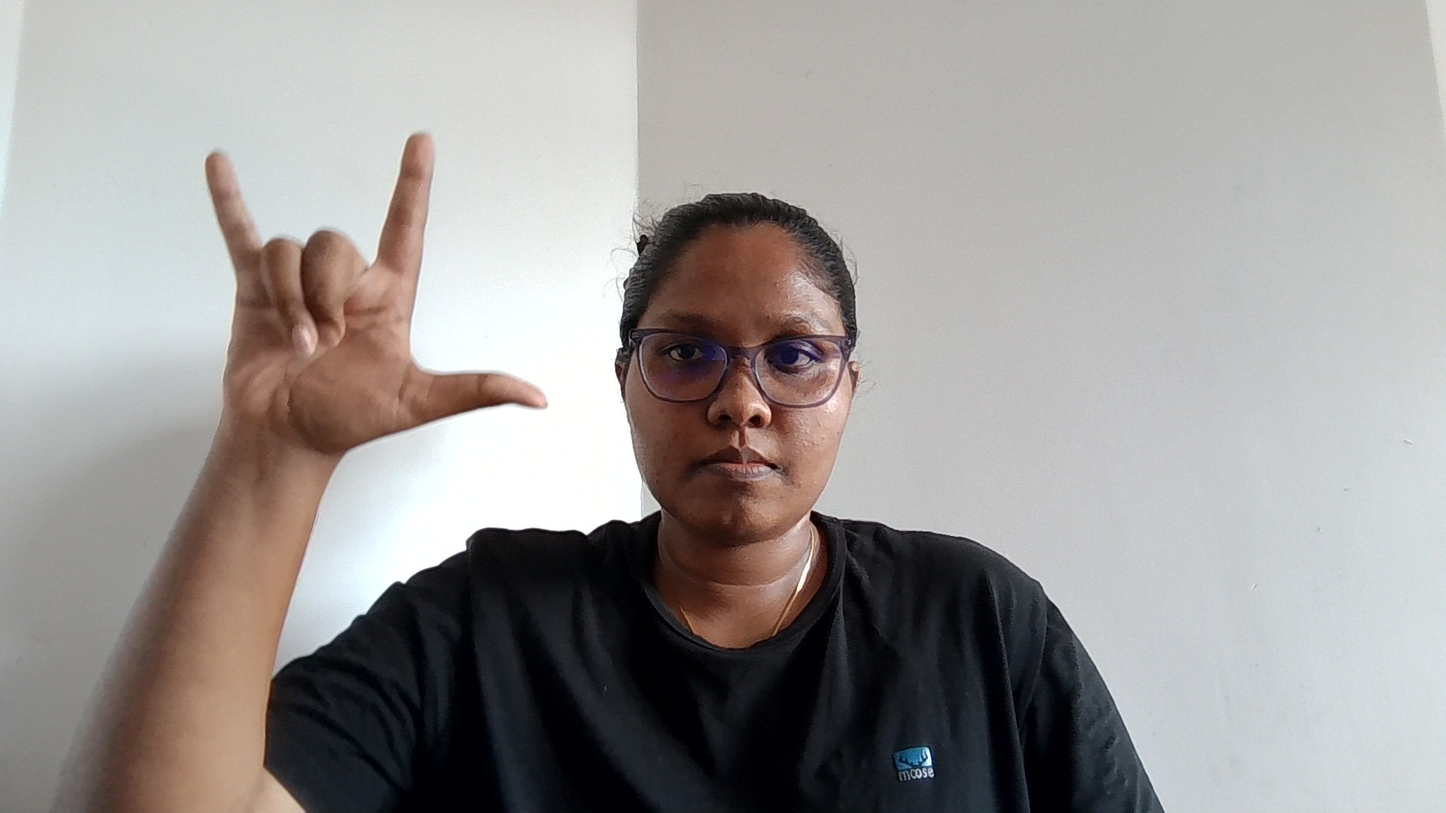I Love You: (164, 83, 611, 574)
